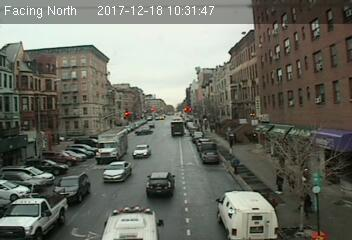car: (1, 188, 65, 240), (52, 171, 91, 205), (146, 172, 174, 195), (102, 161, 130, 181), (202, 150, 220, 164), (133, 145, 152, 157)
truck: (216, 191, 279, 238), (96, 128, 129, 161)
ups: (170, 121, 185, 136)
